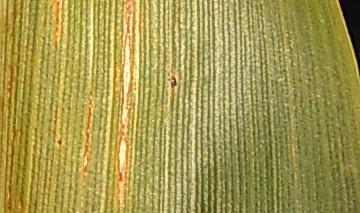tarspot: (169, 75, 178, 90), (117, 170, 124, 183), (56, 136, 63, 146)
